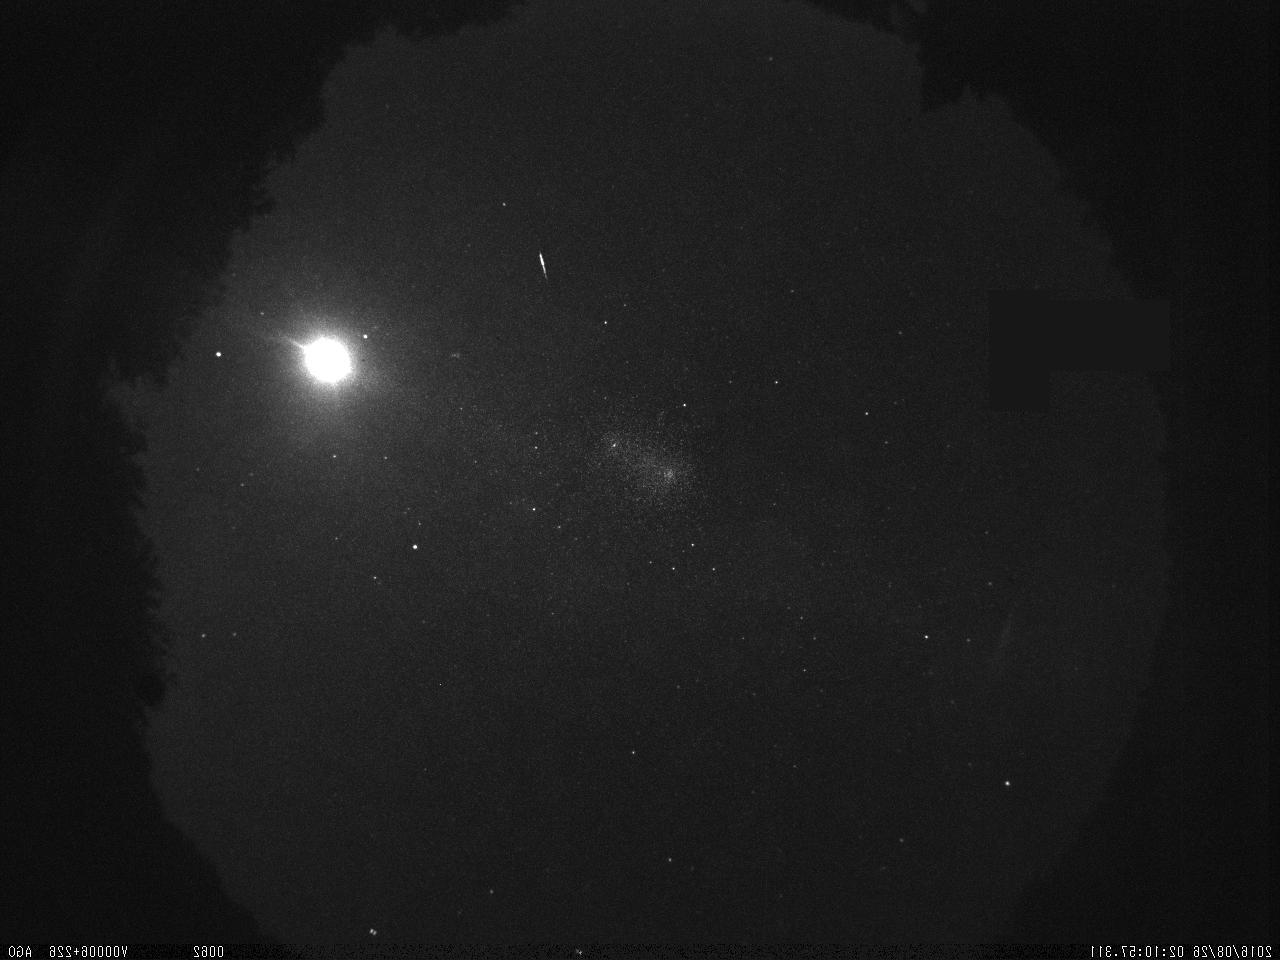meteor: (526, 245, 559, 294)
